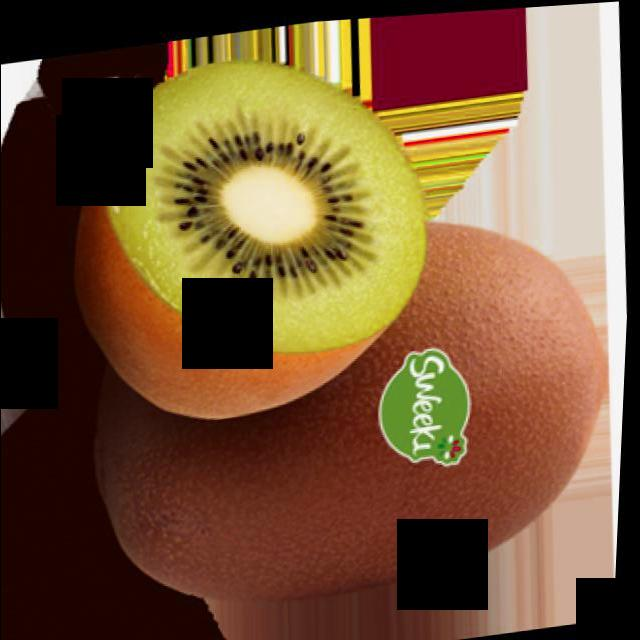kiwi: (81, 194, 635, 623)
